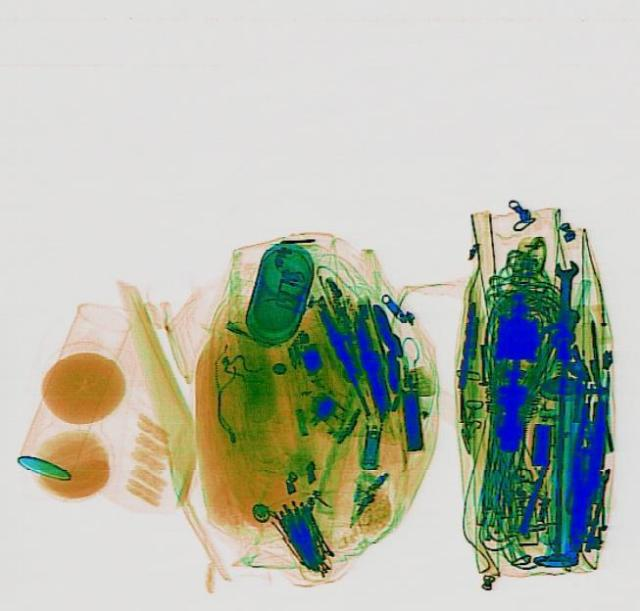Pliers: (560, 398, 610, 553)
Wrench: (549, 259, 579, 344)
